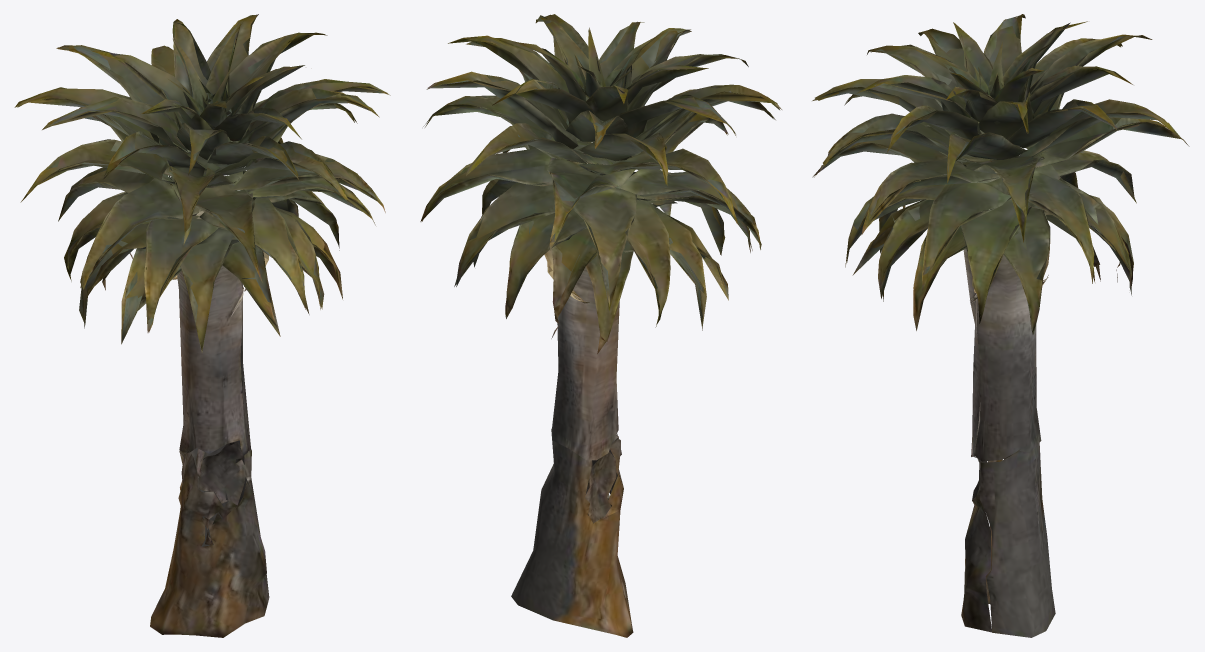
The model's file is quiver.glb.
3 views of the same model, side by side, from view 1: azimuth 30°, elevation 25°; view 2: azimuth 150°, elevation 25°; view 3: azimuth 270°, elevation 25° (orthographic).
Parts seen in each view (by area): view 1: quiver_tree_02; view 2: quiver_tree_02; view 3: quiver_tree_02.
Part boxes in pixels (bbox=[...]): quiver_tree_02: bbox=[14, 14, 390, 637]; quiver_tree_02: bbox=[420, 14, 781, 637]; quiver_tree_02: bbox=[812, 14, 1189, 637].
Size of the model in its own units: 0.8739 by 1.47 by 0.8719.
1 material, 1 textured.
